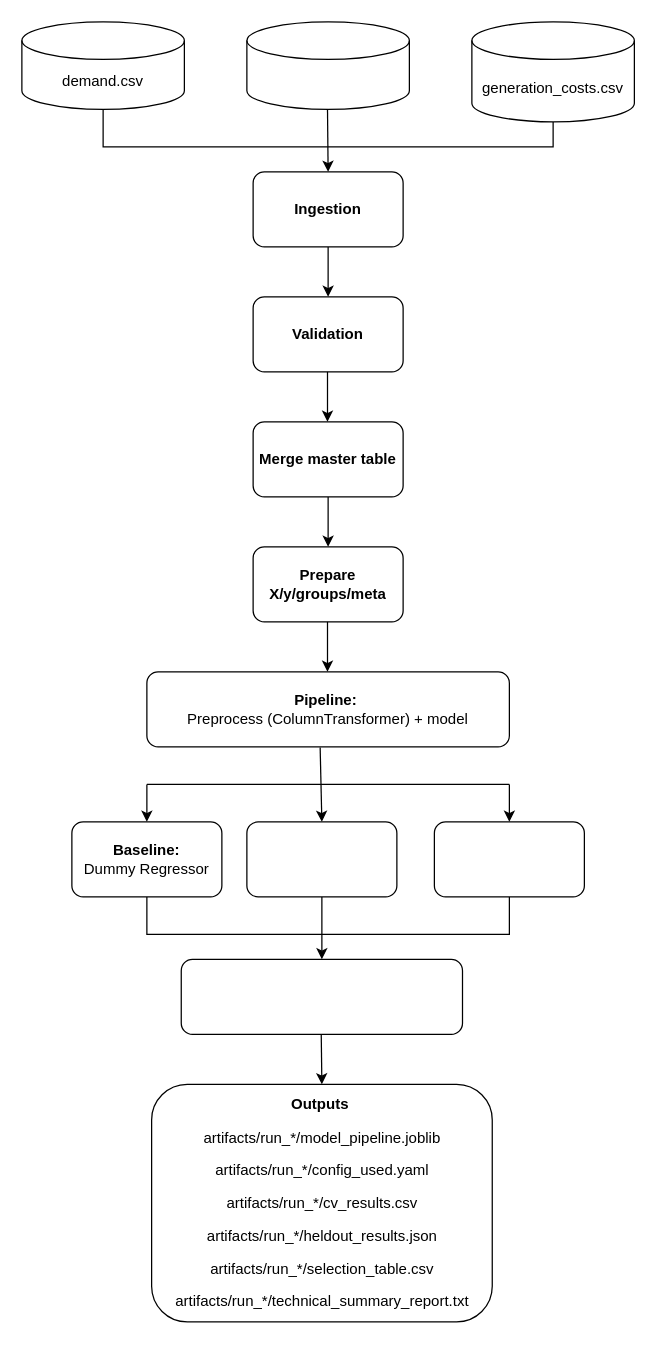
This 656x1348 diagram has some shape labels left out. The shapes that lost their labels are listed below. From the top down, each one's centre as x and y in pixels, then its label:
point (327, 65): plants.csv
point (321, 859): Untuned: Random Forest
point (508, 859): Tuning: GridSearchCV + LOGO + custom scorer
point (321, 996): Tuned evaluation
